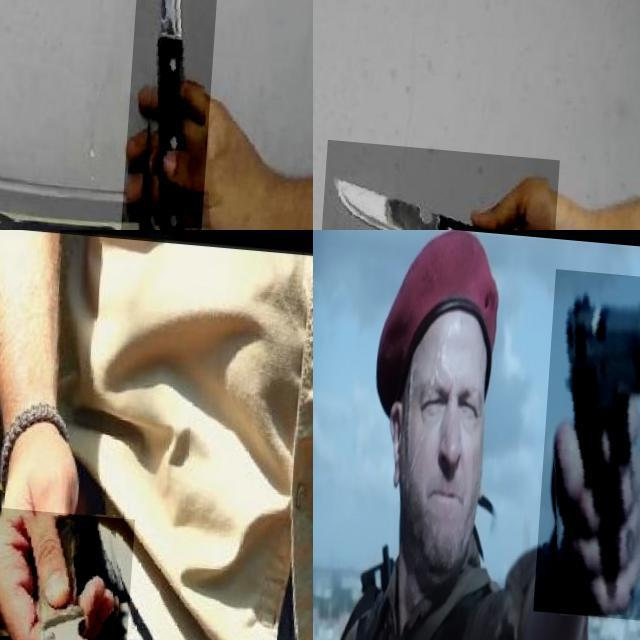-: (128, 0, 232, 230), (323, 136, 563, 230), (0, 503, 139, 640)
gun-knife-thesis - v11 Yolov5 augmented: (538, 262, 640, 613)
